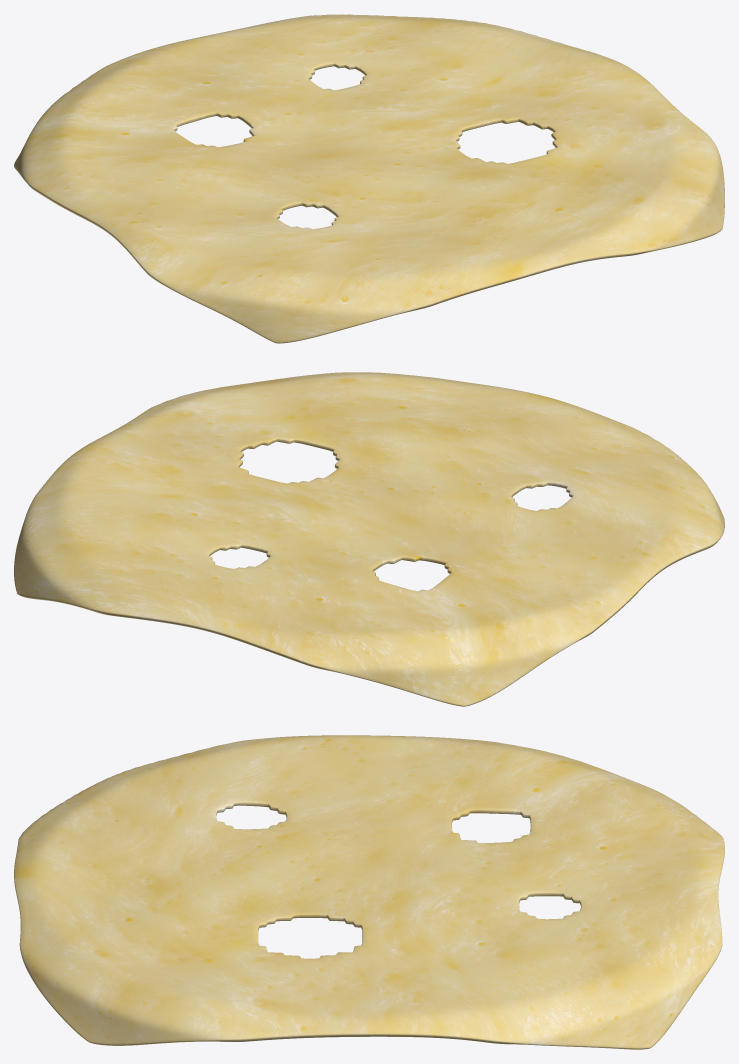
Rendered from swiss.glb.
The picture shows the model from 3 angles, top to bottom: view 1: azimuth 30°, elevation 25°; view 2: azimuth 150°, elevation 25°; view 3: azimuth 270°, elevation 25°; orthographic projection. The views are drawn at different scales.
Visible parts, largest first — view 1: Soft melted swiss; view 2: Soft melted swiss; view 3: Soft melted swiss.
Boxes of the visible parts, bbox=[...] form: Soft melted swiss: bbox=[14, 14, 724, 343]; Soft melted swiss: bbox=[14, 372, 724, 706]; Soft melted swiss: bbox=[14, 735, 724, 1049].
Bounding box in the file's own units: 2.17 × 0.1972 × 2.17.
1 material, 1 textured.
